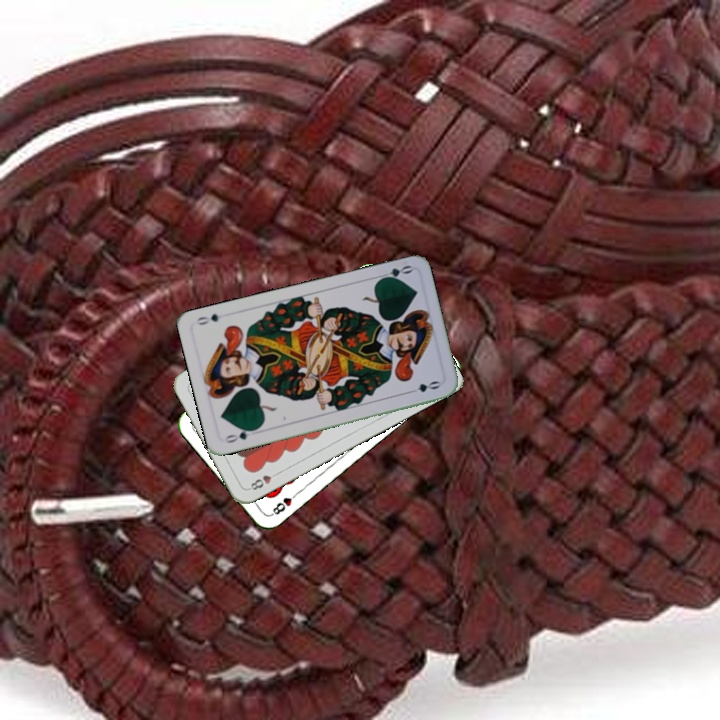GO: (374, 261, 415, 283), (220, 424, 260, 446)
H8: (267, 488, 301, 518), (244, 468, 282, 493)
